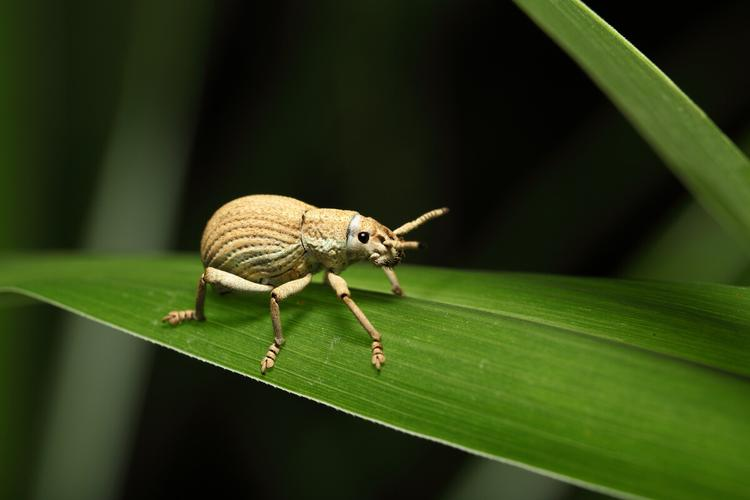Curculionidae: (160, 193, 449, 375)
